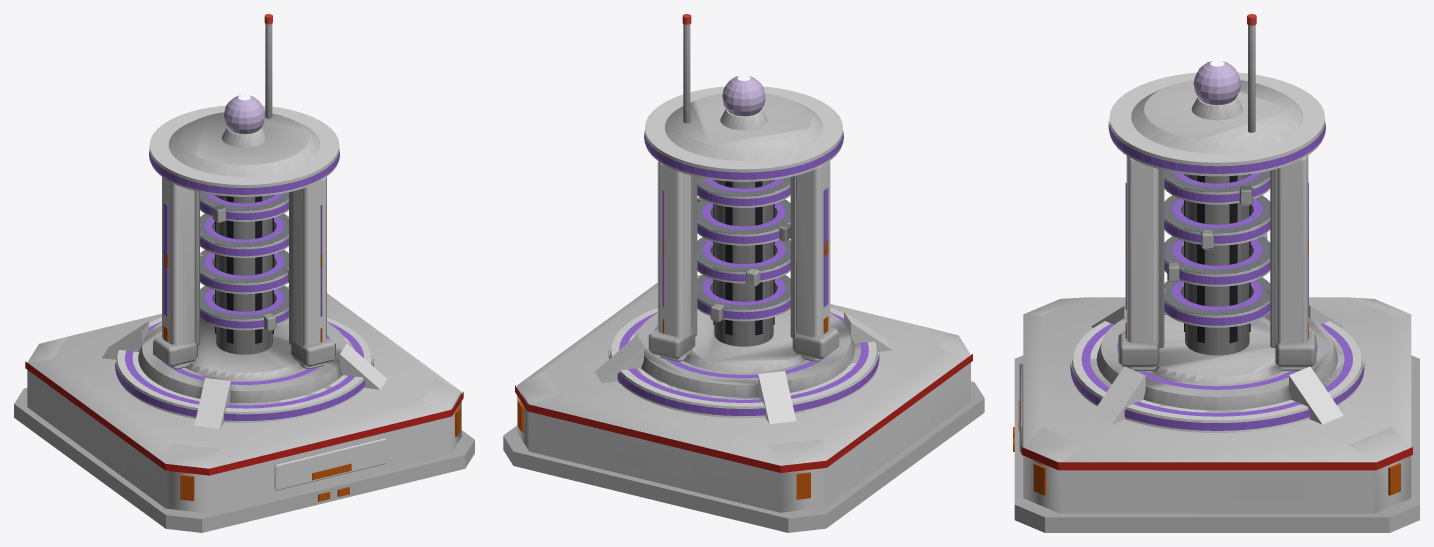
The model's file is chain_1.glb.
The picture shows the model from 3 angles, left to right: view 1: azimuth 30°, elevation 25°; view 2: azimuth 150°, elevation 25°; view 3: azimuth 270°, elevation 25°; orthographic projection. The views are drawn at different scales.
Parts seen in each view (by area): view 1: Rumpf, Ladung, Spulen, LadungSpulen, Kern; view 2: Rumpf, Ladung, Spulen, LadungSpulen, Kern; view 3: Rumpf, Ladung, Spulen, LadungSpulen, Kern.
Boxes of the visible parts, left/top/right/bottom form: Rumpf: left=14, top=14, right=474, bottom=532; Ladung: left=115, top=150, right=373, bottom=420; Spulen: left=200, top=192, right=288, bottom=331; LadungSpulen: left=200, top=193, right=288, bottom=328; Kern: left=224, top=95, right=264, bottom=134; Rumpf: left=503, top=14, right=984, bottom=532; Ladung: left=608, top=131, right=879, bottom=415; Spulen: left=697, top=177, right=790, bottom=322; LadungSpulen: left=697, top=178, right=790, bottom=319; Kern: left=722, top=76, right=765, bottom=116; Rumpf: left=1013, top=14, right=1419, bottom=532; Ladung: left=1070, top=121, right=1364, bottom=430; Spulen: left=1164, top=170, right=1270, bottom=327; LadungSpulen: left=1164, top=172, right=1270, bottom=325; Kern: left=1193, top=61, right=1240, bottom=105.
Bounding box in the file's own units: 0.94 × 1.16 × 0.944.
